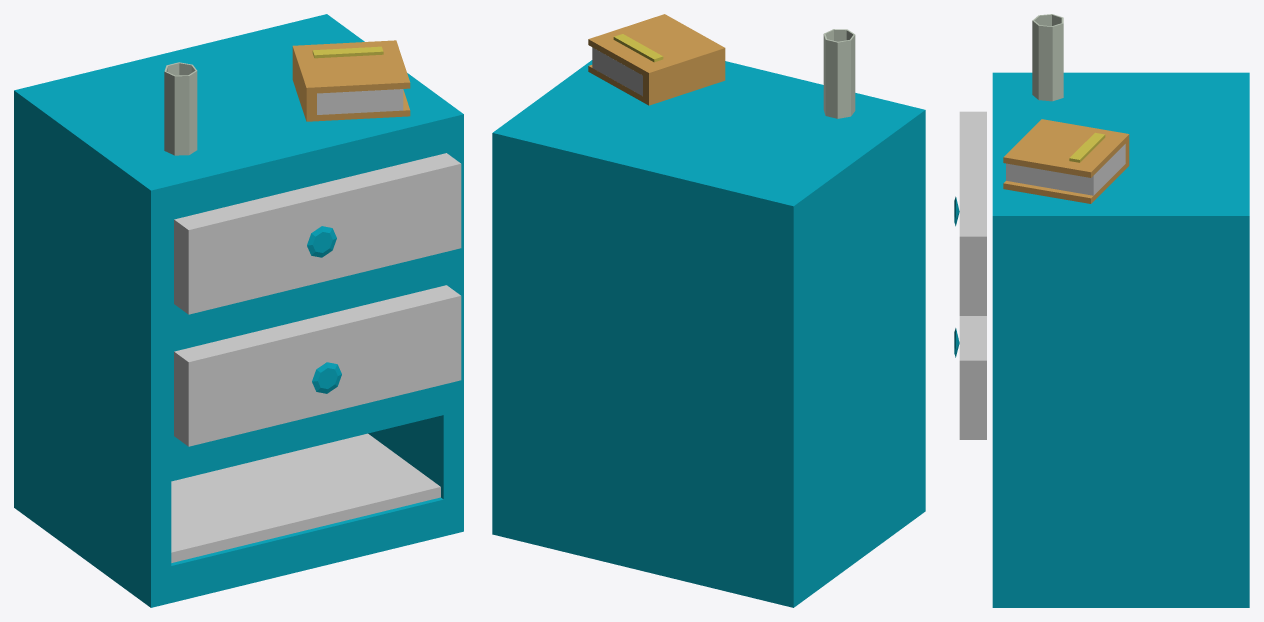
The model's file is pro-149.glb.
3 renders of one model, left to right at view 1: azimuth 30°, elevation 25°; view 2: azimuth 150°, elevation 25°; view 3: azimuth 270°, elevation 25°, orthographic. The views are drawn at different scales.
Parts seen in each view (by area): view 1: Mesh_Mesh_head_geo.001_lambert2SG.001; view 2: Mesh_Mesh_head_geo.001_lambert2SG.001; view 3: Mesh_Mesh_head_geo.001_lambert2SG.001.
Part boxes in pixels (x1=…): Mesh_Mesh_head_geo.001_lambert2SG.001: x1=14, y1=14, x2=463, y2=607; Mesh_Mesh_head_geo.001_lambert2SG.001: x1=492, y1=14, x2=925, y2=607; Mesh_Mesh_head_geo.001_lambert2SG.001: x1=954, y1=14, x2=1249, y2=607.
Bounding box in the file's own units: 62 × 95 × 54.
